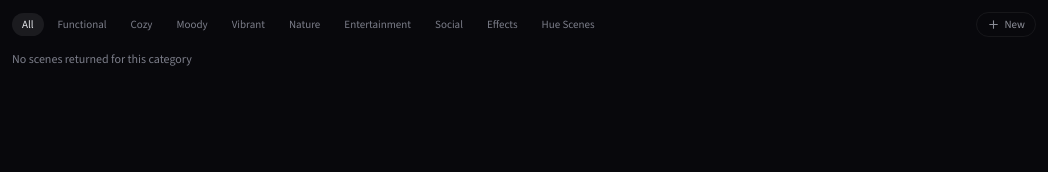
Test: SceneBrowser provenance and fetch states › treats malformed effects as a fetch failure without inferring bridge connectivity
Click the button "Effects": {"x": 502, "y": 24} [477,13,528,36]
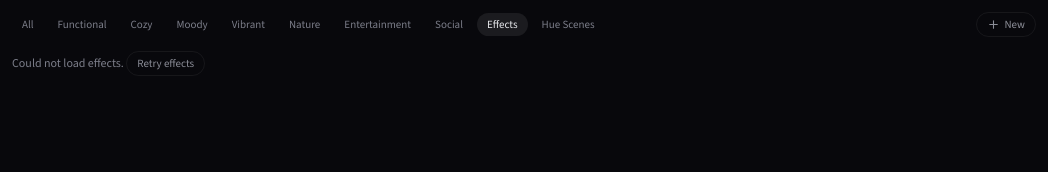
Expected: the text "No effects returned" is not shown
Expected: the message "Could not load effects. Retry effects" is shown, [12,51,205,76]
Click the button "Retry effects": {"x": 166, "y": 64} [126,51,205,76]
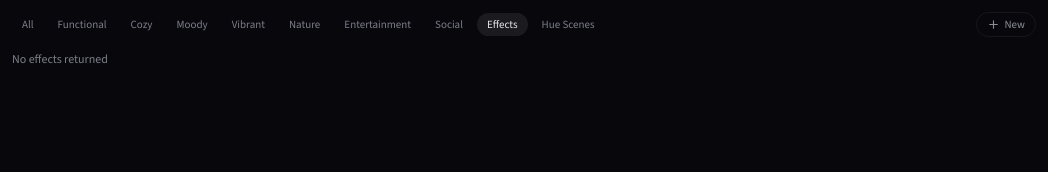
Expected: the text "No effects returned" is shown, [12,47,108,71]
